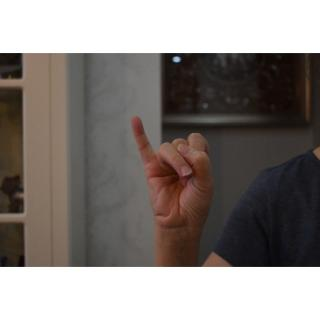MEEM: (128, 109, 216, 241)
